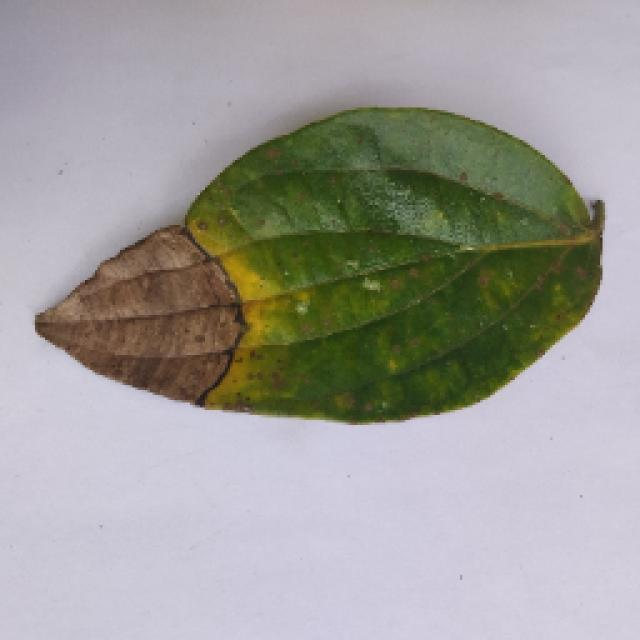footrot: (17, 95, 605, 440)
